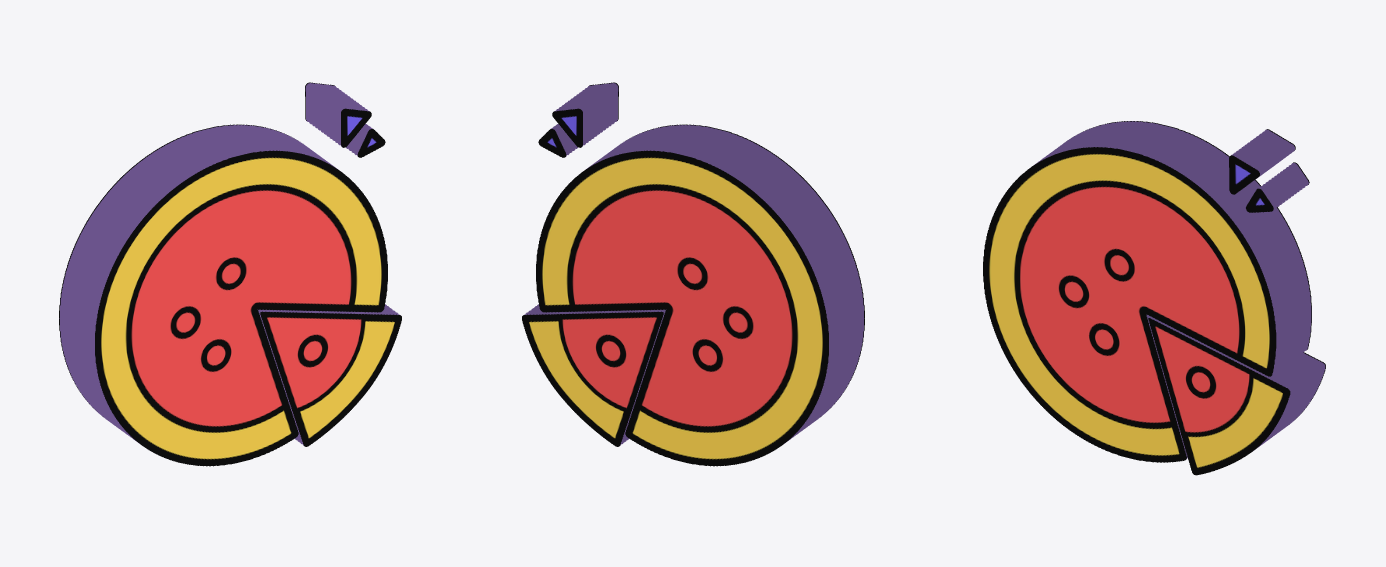
File: pizza-party-ps2-save-icon.glb
3 renders of one model, left to right at view 1: azimuth 30°, elevation 25°; view 2: azimuth 150°, elevation 25°; view 3: azimuth 330°, elevation 25°, orthographic.
Visible parts, largest first — view 1: Front, Extrusion_11, Extrusion_10, Extrusion_09, Extrusion_08, Extrusion_02, Extrusion_01, Extrusion_04, Extrusion_03, Extrusion_00, Extrusion_06, Extrusion_05 (+3 smaller); view 2: Back, Extrusion_01, Extrusion_02, Extrusion_03, Extrusion_04, Extrusion_10, Extrusion_11, Extrusion_08, Extrusion_09, Extrusion_12, Extrusion_06, Extrusion_05 (+3 smaller); view 3: Front, Extrusion_11, Extrusion_08, Extrusion_09, Extrusion_07, Extrusion_10, Extrusion_06, Extrusion_05, Extrusion_04, Extrusion_03, Extrusion_02, Extrusion_01 (+3 smaller).
Part boxes in pixels (x1=…): Front: x1=95, y1=108, x2=401, y2=466; Extrusion_11: x1=91, y1=106, x2=398, y2=444; Extrusion_10: x1=88, y1=104, x2=395, y2=442; Extrusion_09: x1=85, y1=102, x2=392, y2=440; Extrusion_08: x1=82, y1=99, x2=389, y2=435; Extrusion_02: x1=65, y1=87, x2=341, y2=422; Extrusion_01: x1=62, y1=85, x2=338, y2=421; Extrusion_04: x1=71, y1=91, x2=347, y2=426; Extrusion_03: x1=68, y1=89, x2=344, y2=424; Extrusion_00: x1=59, y1=83, x2=336, y2=419; Extrusion_06: x1=77, y1=95, x2=353, y2=430; Extrusion_05: x1=74, y1=93, x2=350, y2=430; Back: x1=522, y1=108, x2=828, y2=466; Extrusion_01: x1=525, y1=106, x2=832, y2=444; Extrusion_02: x1=528, y1=104, x2=835, y2=442; Extrusion_03: x1=531, y1=102, x2=838, y2=440; Extrusion_04: x1=534, y1=99, x2=841, y2=435; Extrusion_10: x1=582, y1=87, x2=858, y2=422; Extrusion_11: x1=585, y1=85, x2=861, y2=421; Extrusion_08: x1=576, y1=91, x2=852, y2=426; Extrusion_09: x1=579, y1=89, x2=855, y2=424; Extrusion_12: x1=587, y1=83, x2=864, y2=419; Extrusion_06: x1=570, y1=95, x2=846, y2=430; Extrusion_05: x1=537, y1=97, x2=843, y2=431; Front: x1=983, y1=147, x2=1290, y2=475; Extrusion_11: x1=1035, y1=144, x2=1293, y2=458; Extrusion_08: x1=1043, y1=138, x2=1302, y2=441; Extrusion_09: x1=1041, y1=140, x2=1299, y2=444; Extrusion_07: x1=1046, y1=136, x2=1305, y2=440; Extrusion_10: x1=1038, y1=142, x2=1296, y2=446; Extrusion_06: x1=1049, y1=134, x2=1308, y2=437; Extrusion_05: x1=1051, y1=132, x2=1310, y2=435; Extrusion_04: x1=1055, y1=129, x2=1313, y2=434; Extrusion_03: x1=1058, y1=127, x2=1316, y2=430; Extrusion_02: x1=1060, y1=125, x2=1319, y2=430; Extrusion_01: x1=1063, y1=123, x2=1322, y2=427.
Size of the model in its own units: 1 by 1 by 0.156.
2 materials, 2 textured.
